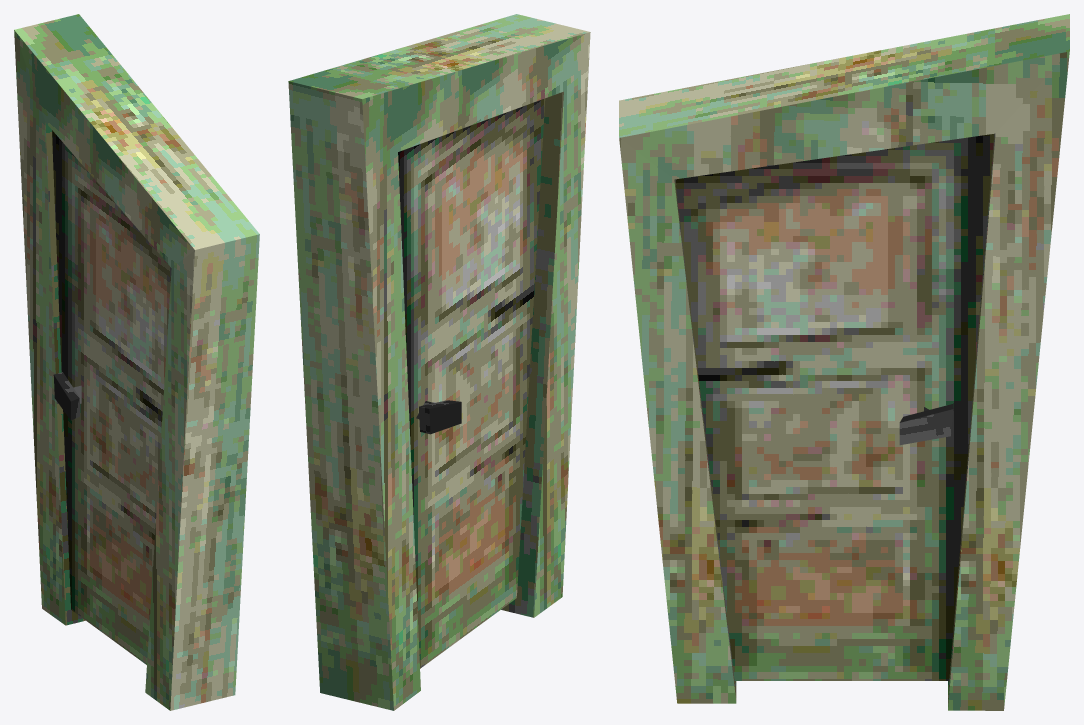
File: door.glb
3 views of the same model, side by side, from view 1: azimuth 30°, elevation 25°; view 2: azimuth 150°, elevation 25°; view 3: azimuth 270°, elevation 25° (orthographic). The views are drawn at different scales.
Parts seen in each view (by area): view 1: Cube.002; view 2: Cube.002; view 3: Cube.002.
Part boxes in pixels (x1,y1,x2,y2): Cube.002: (14, 14, 259, 710); Cube.002: (288, 14, 590, 710); Cube.002: (619, 14, 1069, 710).
Size of the model in its own units: 1.6 by 10.63 by 6.58.
Materials: 1 (1 with a texture image).
